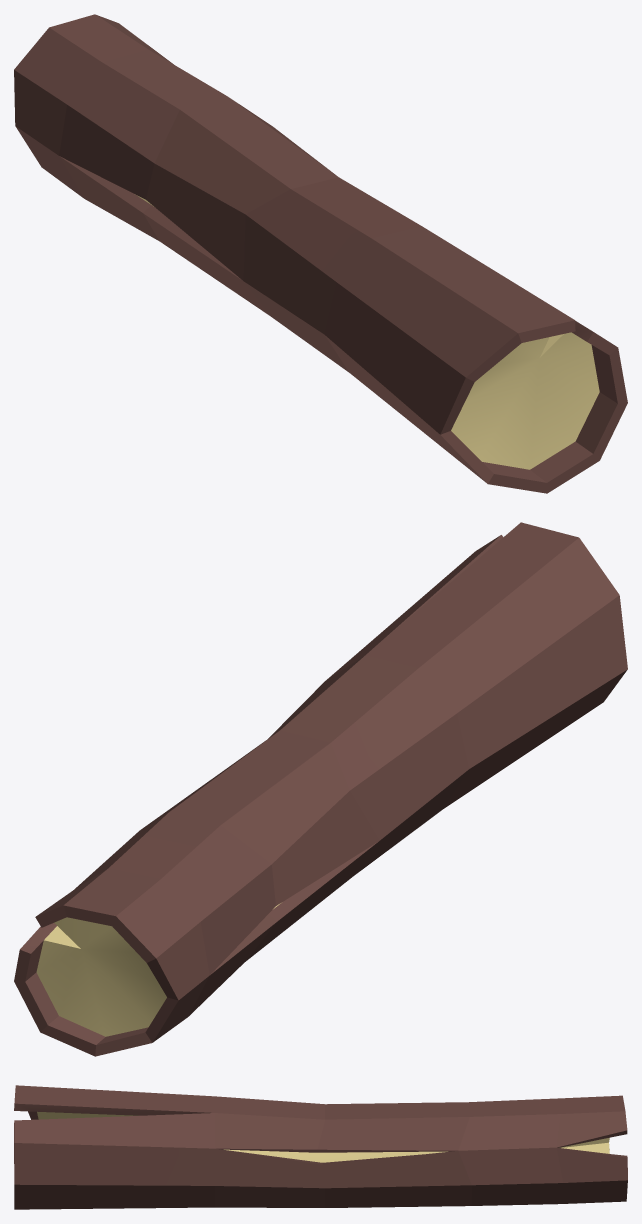
Rendered from WoodLog_NoDetails_Filled.fbx.
The picture shows the model from 3 angles, top to bottom: view 1: azimuth 30°, elevation 25°; view 2: azimuth 150°, elevation 25°; view 3: azimuth 270°, elevation 25°; orthographic projection. The views are drawn at different scales.
Visible parts, largest first — view 1: WoodLog; view 2: WoodLog; view 3: WoodLog.
Part boxes in pixels (<box>): WoodLog: <box>14,14,627,493</box>; WoodLog: <box>14,522,627,1056</box>; WoodLog: <box>14,1085,627,1209</box>.
Bounding box in the file's own units: 57.39 × 53.45 × 267.
